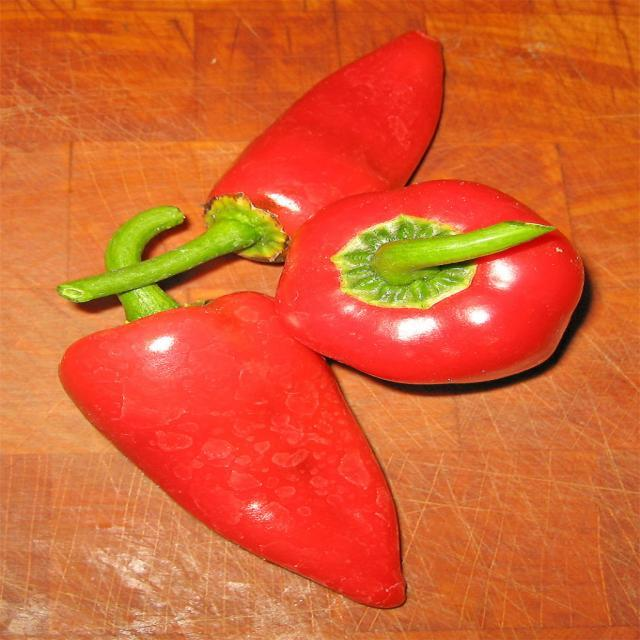Bell pepper: (277, 176, 588, 384)
